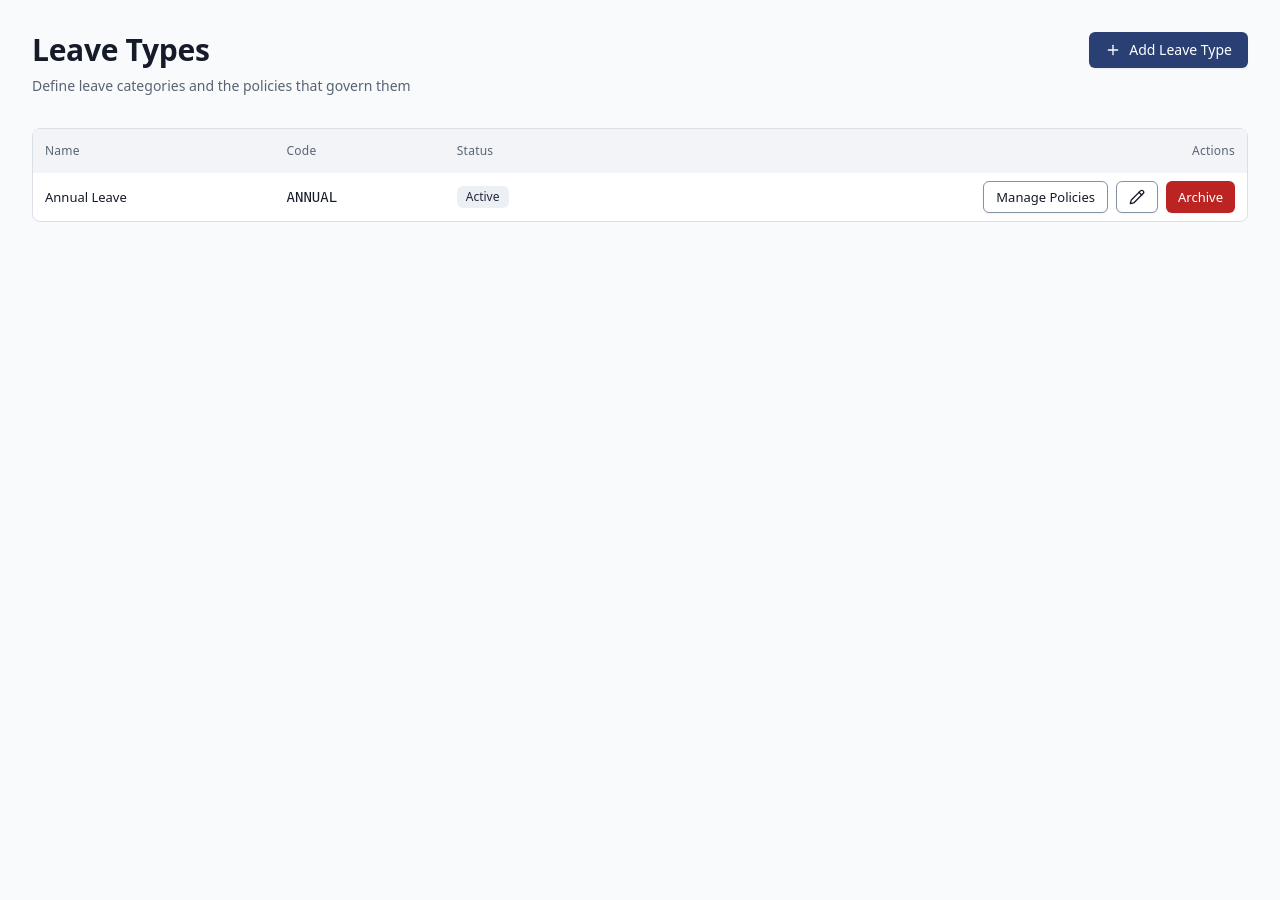
Test: Leave Types page — status confirmations › archiving a leave policy requires confirmation and archives it once on confirm
Step 1. Click the button with test id "button-manage-policies-1" → [1046, 197], box [983, 181, 1108, 213]
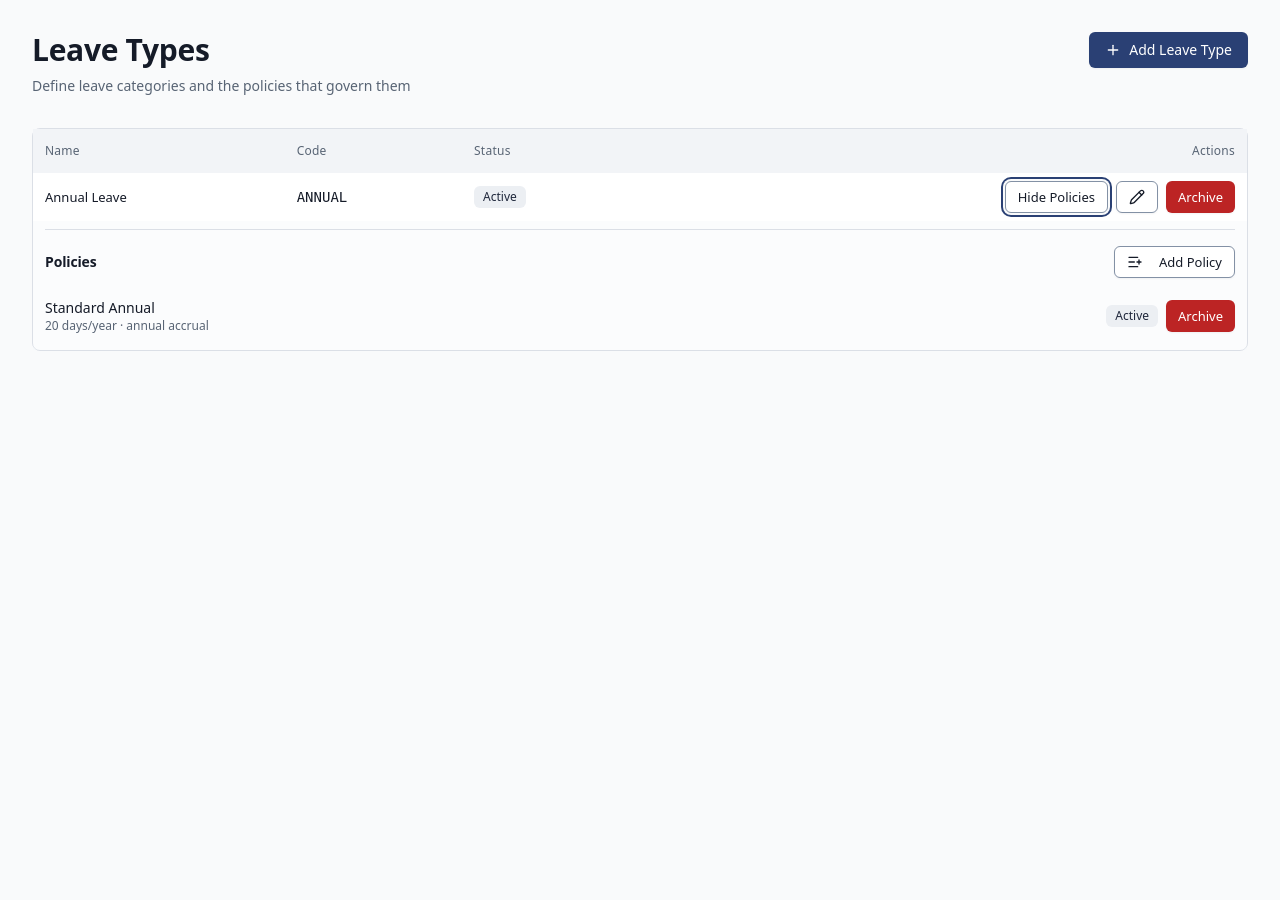
Step 2. Click the button with test id "button-toggle-policy-status-7" → [1200, 316], box [1166, 300, 1235, 332]
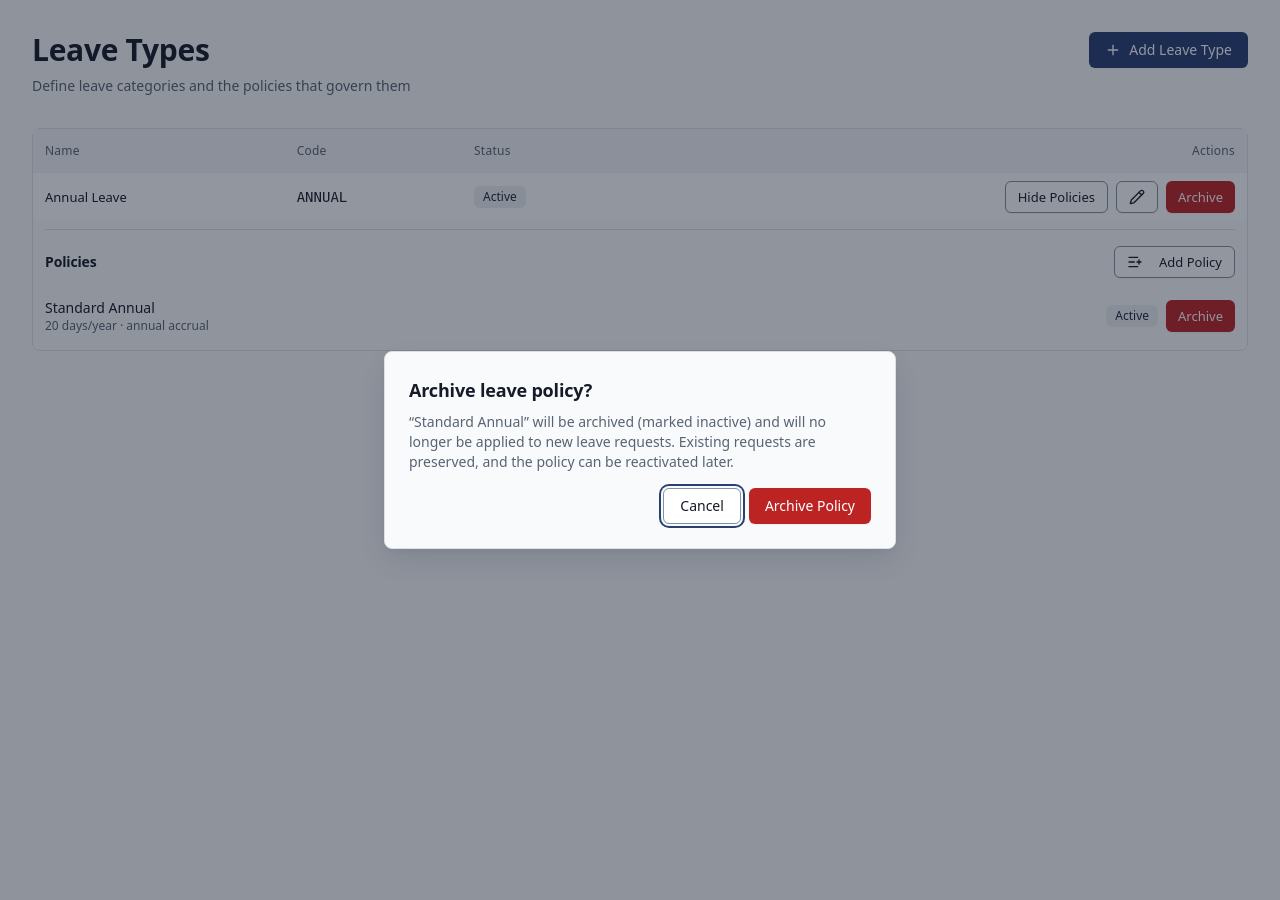
Now the dialog with test id "dialog-policy-status-1" shows "Archive leave policy?", box [409, 378, 592, 402]
Now the dialog with test id "dialog-policy-status-1" shows "“Standard Annual”", box [384, 351, 896, 549]
Step 3. Click the button with test id "dialog-policy-status-1-cancel" → [702, 506], box [663, 488, 741, 524]
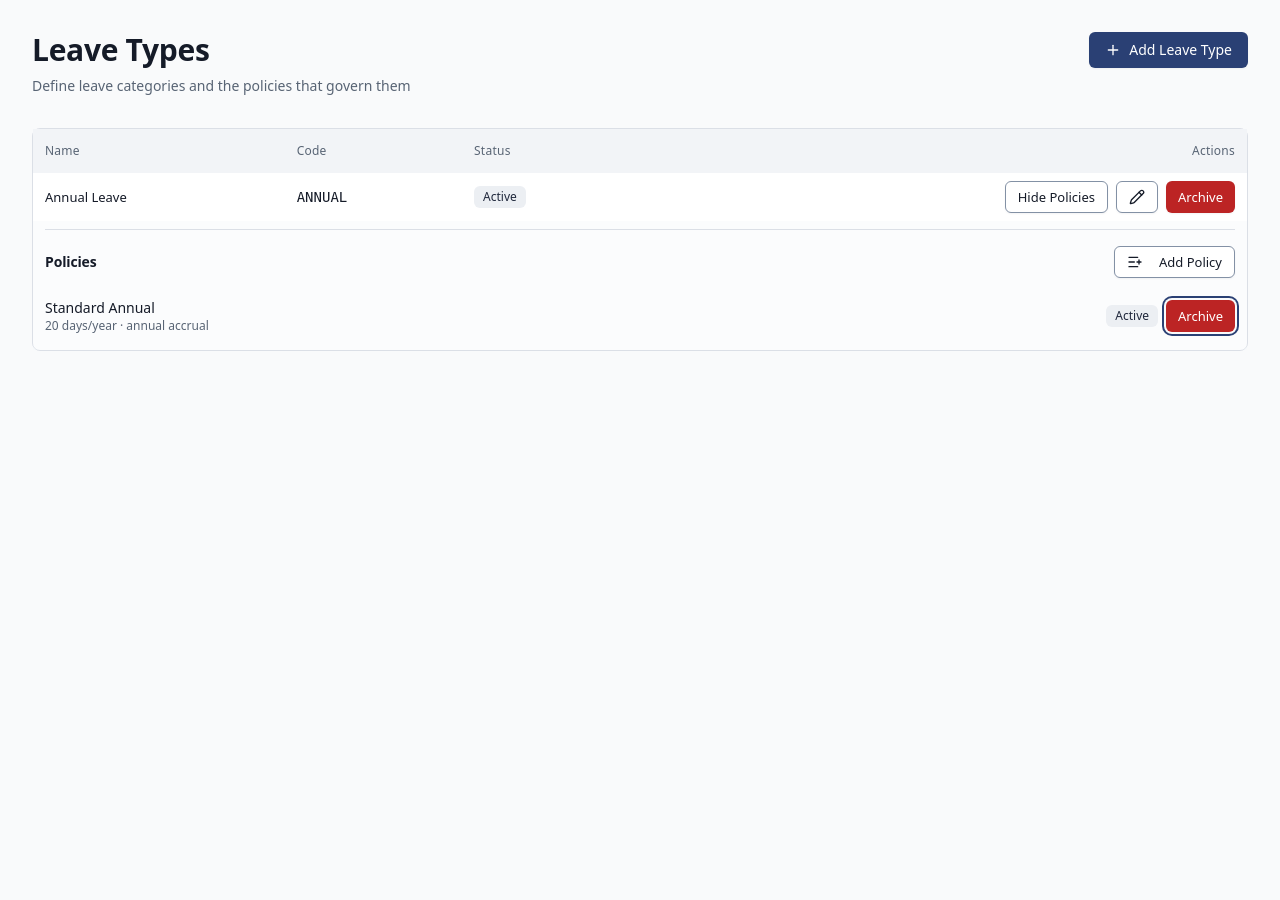
Now the dialog with test id "dialog-policy-status-1" is gone
Step 4. Click the button with test id "button-toggle-policy-status-7" → [1200, 316], box [1166, 300, 1235, 332]
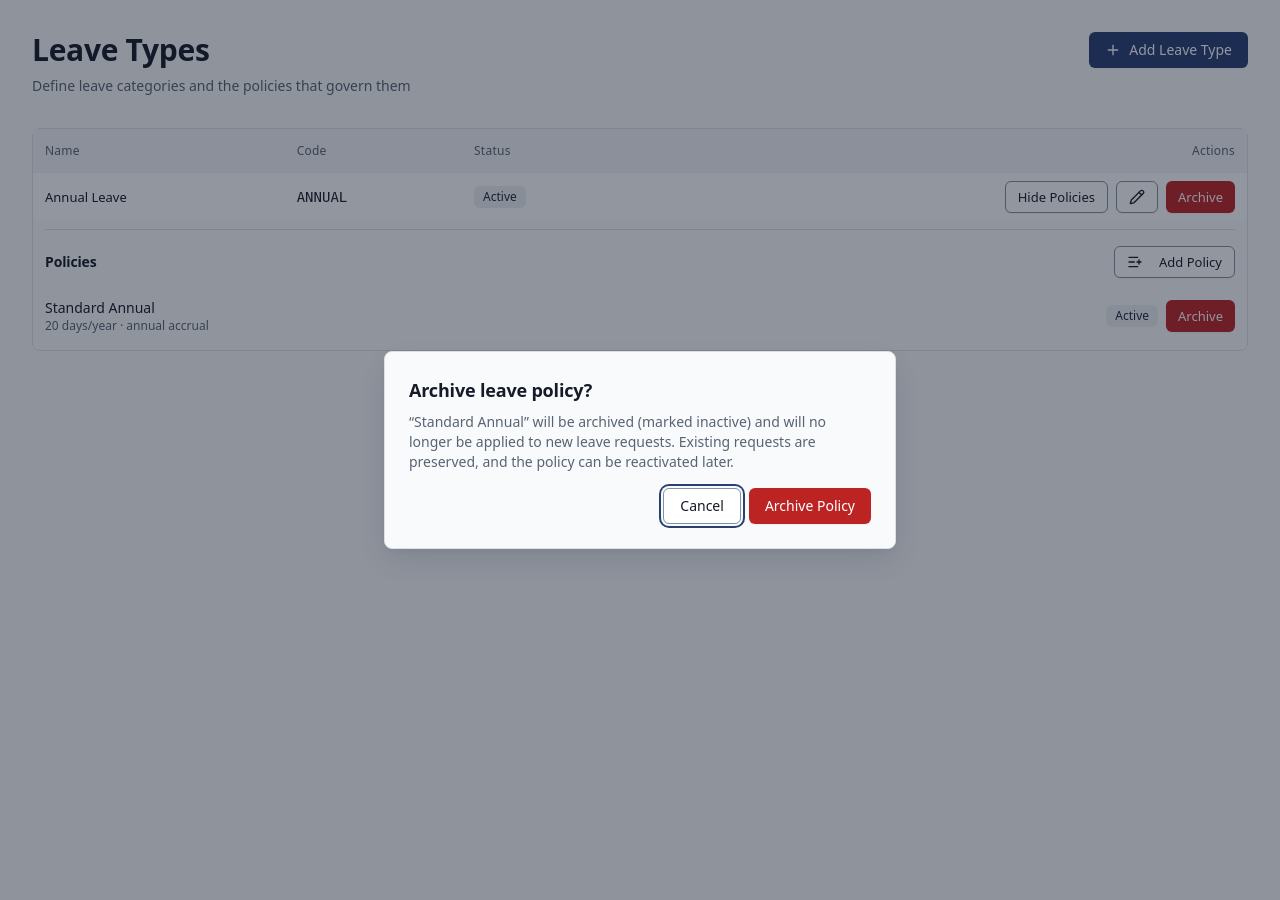
Step 5. Click the button with test id "dialog-policy-status-1-confirm" → [810, 506], box [749, 488, 871, 524]
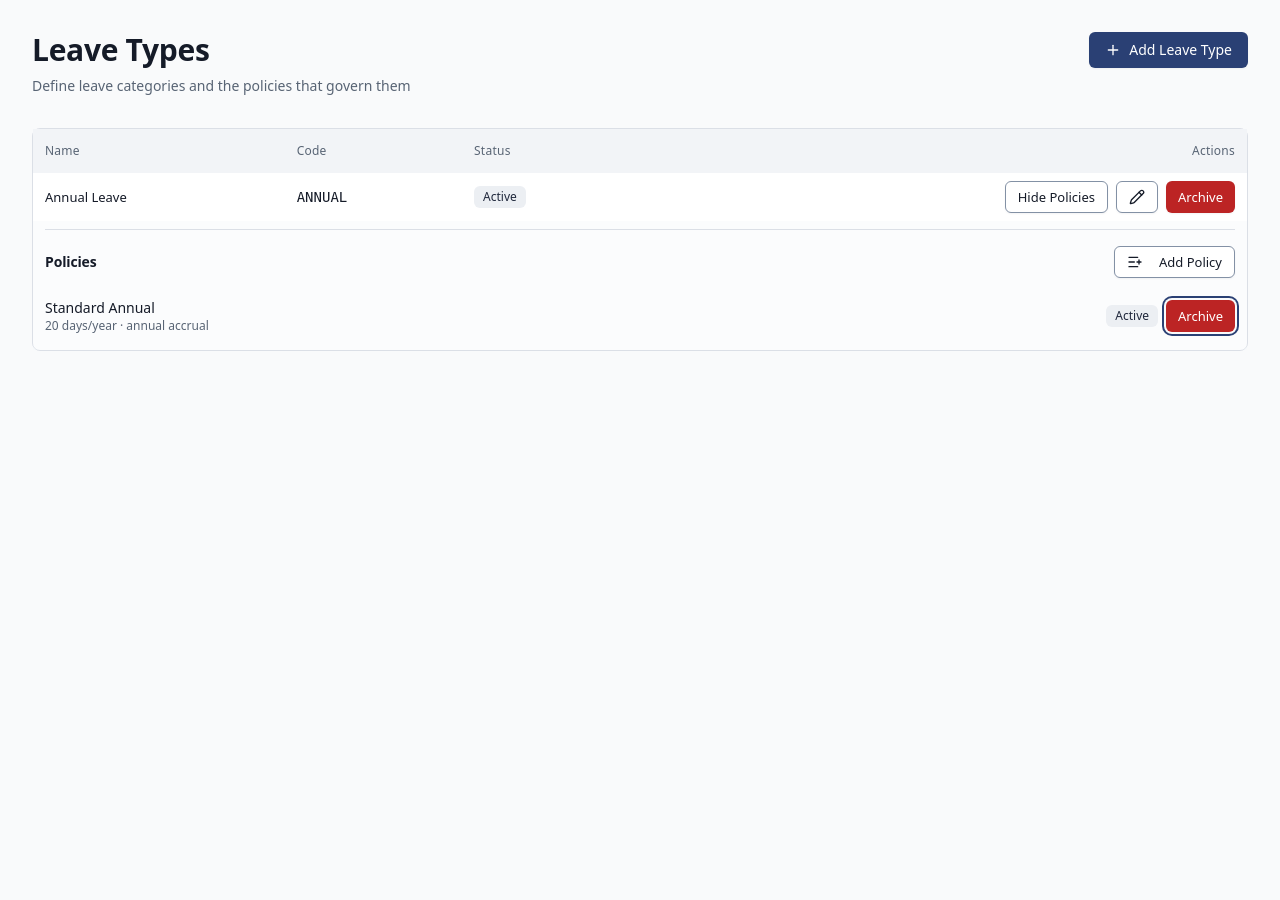
Now the dialog with test id "dialog-policy-status-1" is gone
